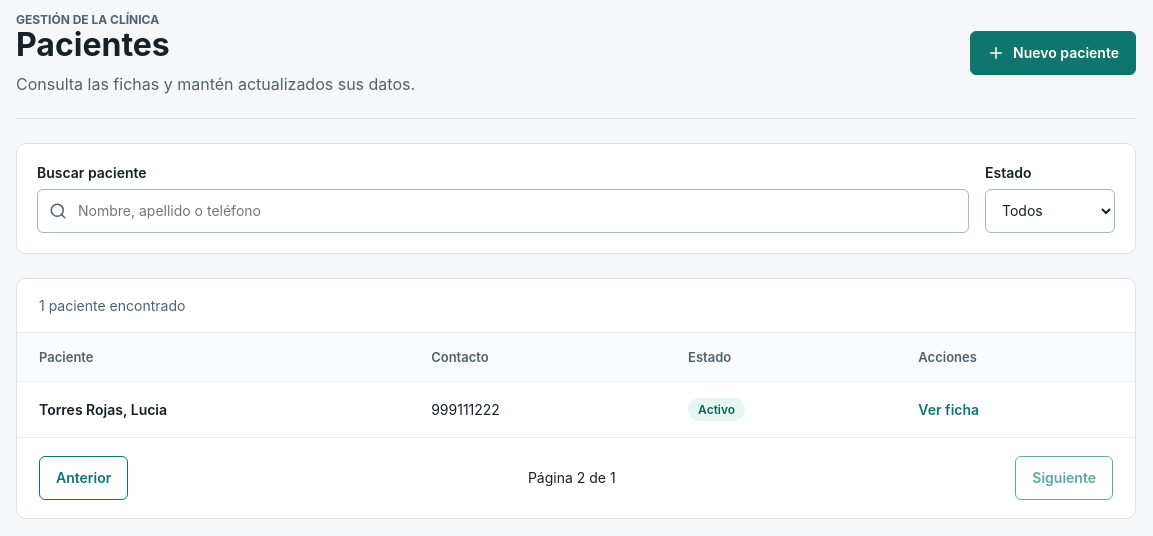
Test case: gestion de pacientes › busca al escribir, aplica el estado inmediatamente y vuelve a pagina 1
Check: the link "Torres Rojas, Lucia" is shown, box [39,401,167,418]
Type "Lucia" into the search field.
click(503, 211); type("Lucia")  # box [37,189,969,233]
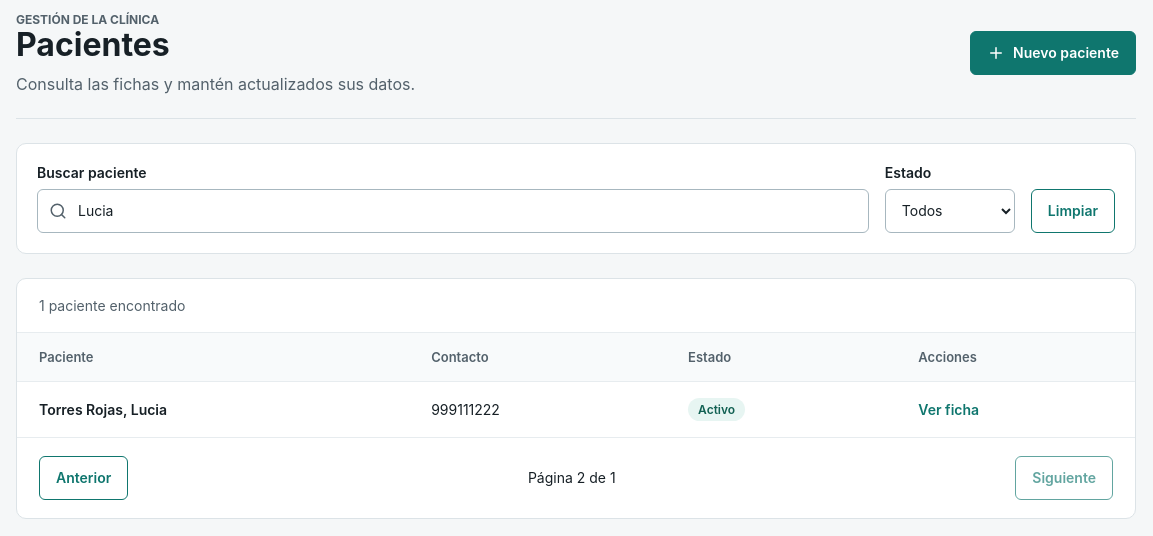
Select "Inactivos" in the dropdown labelled "Estado" at x=950, y=211, box [885,189,1015,233]
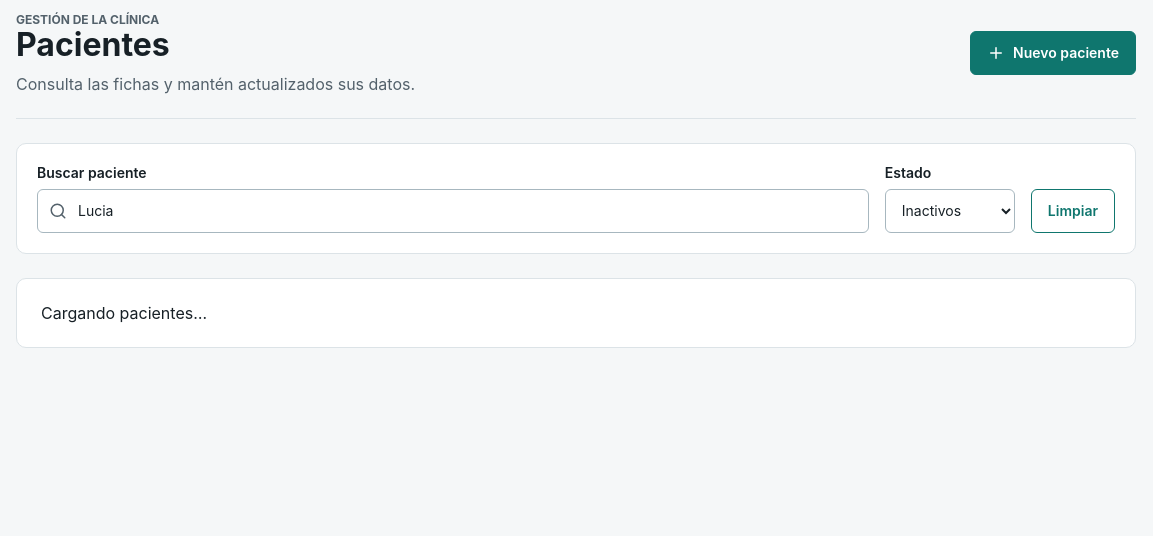
Replace the text in the search field with "T" at x=453, y=211, box [37,189,869,233]
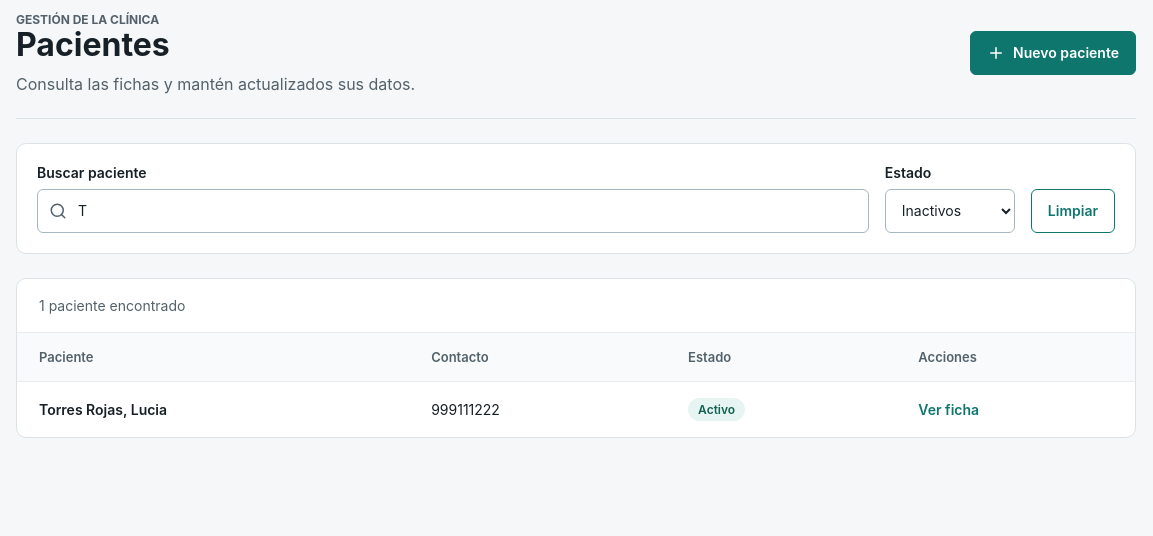
Replace the text in the search field with "To" at x=453, y=211, box [37,189,869,233]
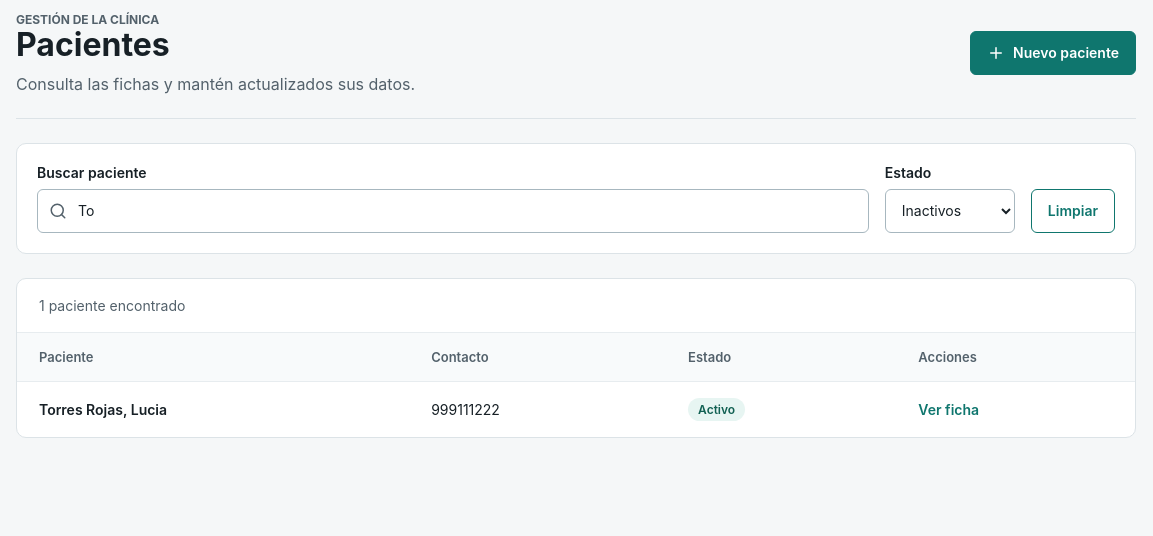
Replace the text in the search field with "Torres " at x=453, y=211, box [37,189,869,233]
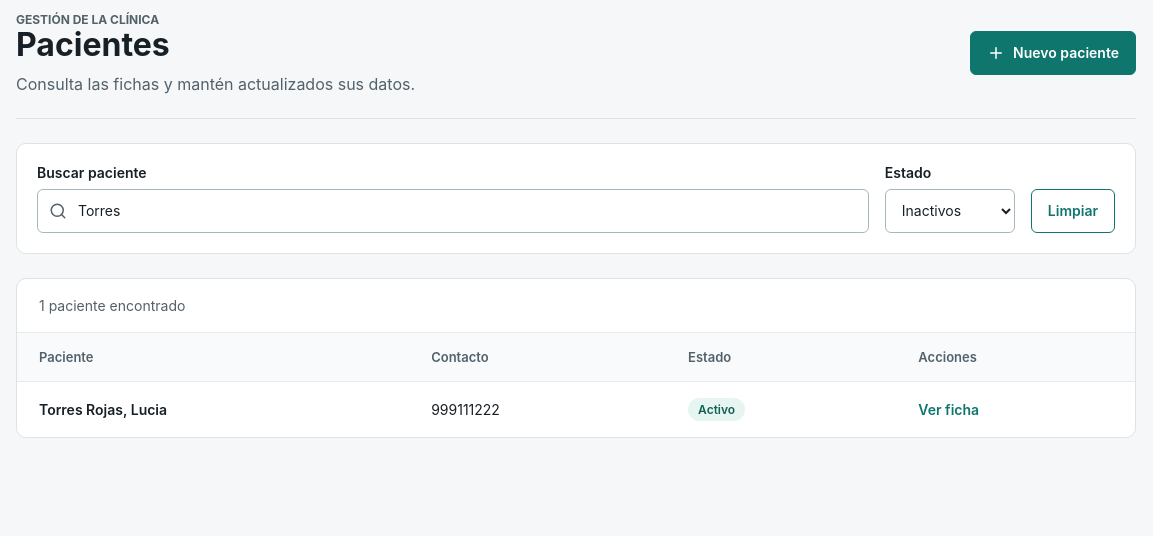
Click the button "Limpiar".
click(1073, 211)  # box [1031,189,1115,233]
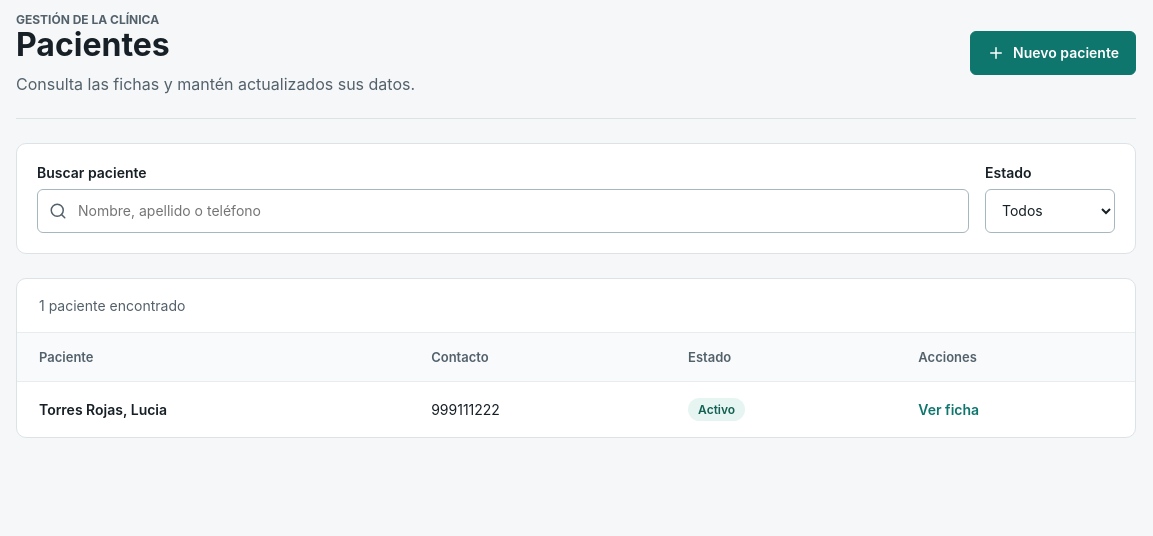
Check: the search field is empty, box [37,189,969,233]
